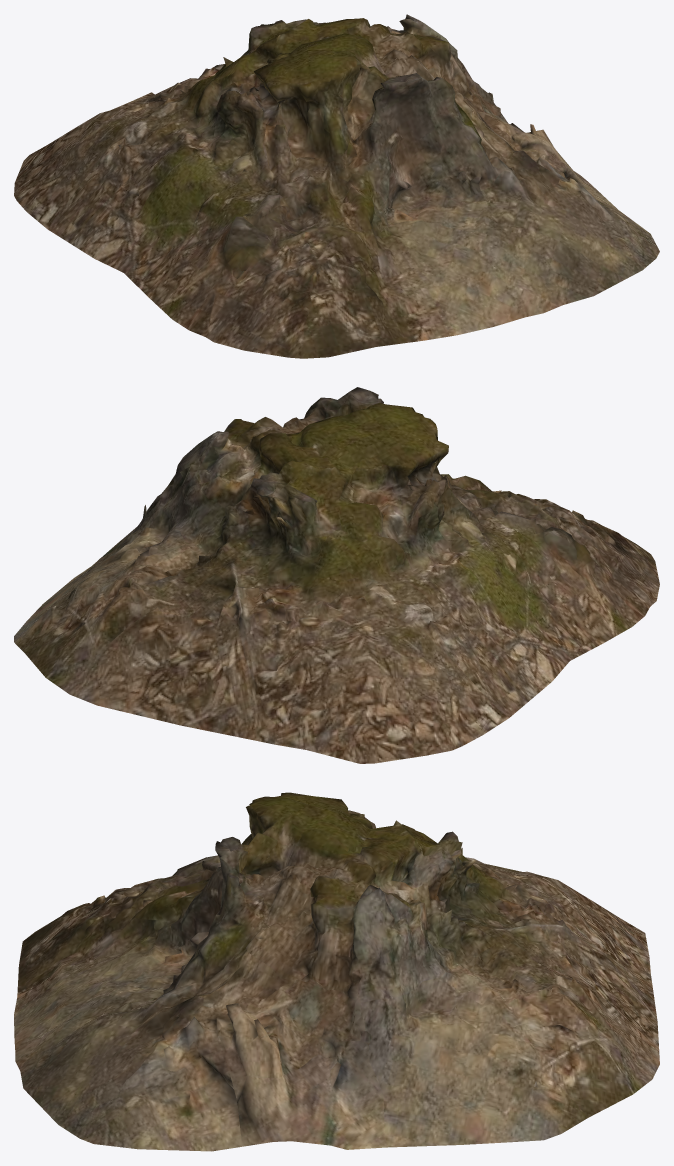
The model's file is tree_stump_01_wood.glb.
3 views of the same model, one above another, from view 1: azimuth 30°, elevation 25°; view 2: azimuth 150°, elevation 25°; view 3: azimuth 270°, elevation 25° (orthographic). The views are drawn at different scales.
Parts seen in each view (by area): view 1: tree_stump_01; view 2: tree_stump_01; view 3: tree_stump_01.
Boxes of the visible parts, left/top/right/bottom form: tree_stump_01: left=14, top=14, right=659, bottom=358; tree_stump_01: left=14, top=387, right=659, bottom=763; tree_stump_01: left=14, top=792, right=659, bottom=1151.
Bounding box in the file's own units: 1.43 × 0.571 × 1.59.
Materials: 1 (1 with a texture image).
